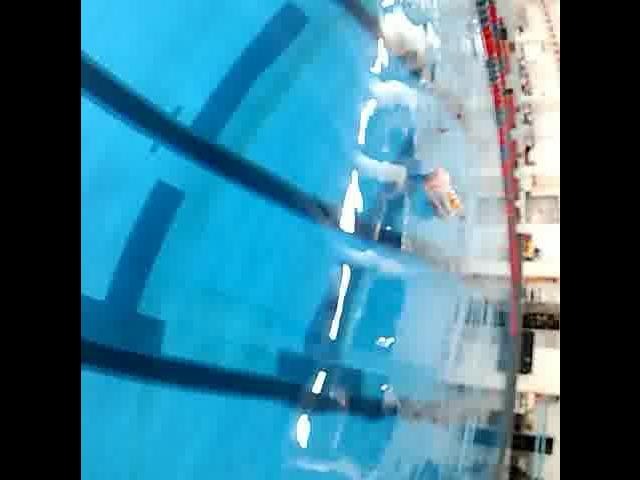Bottle: (409, 152, 466, 228)
